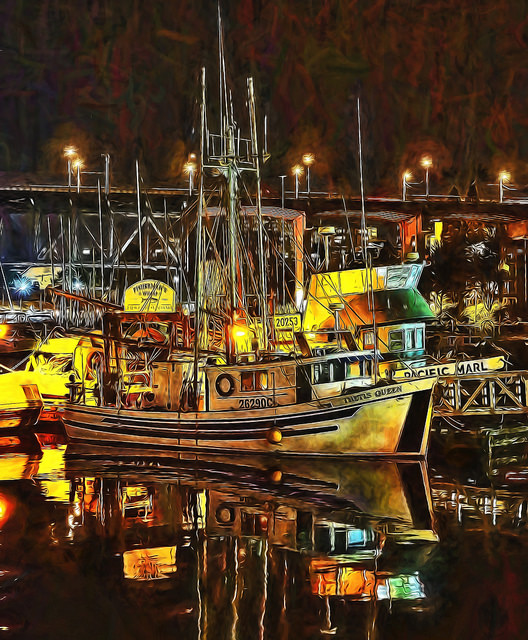fishing_boat: (62, 44, 433, 463)
